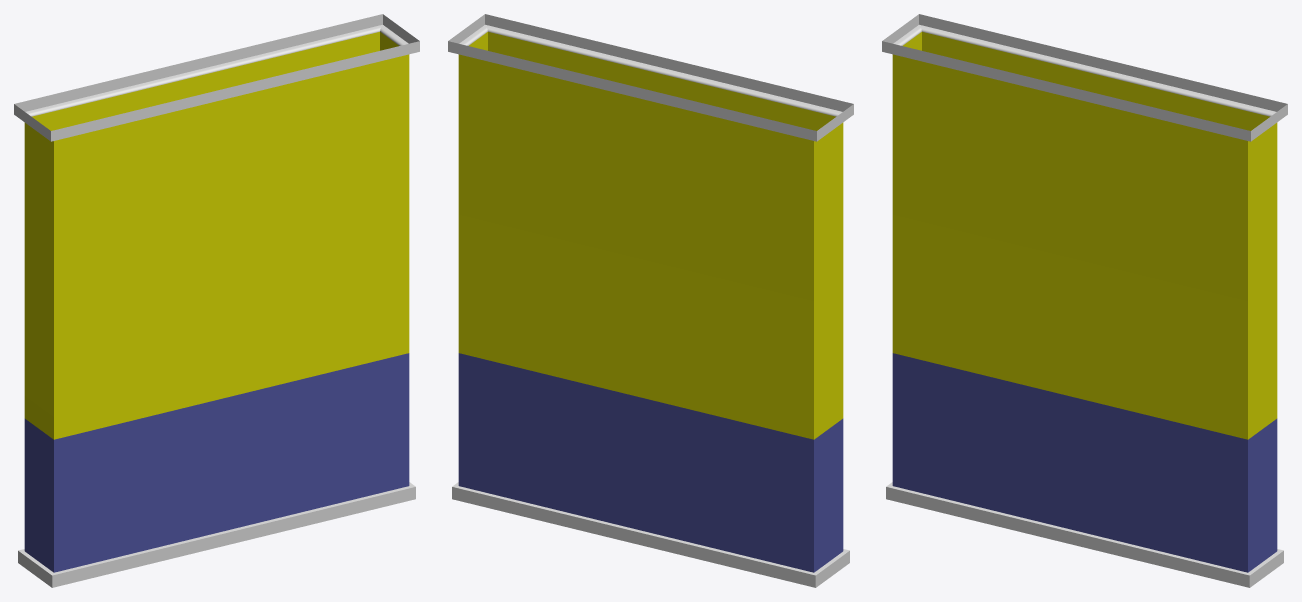
The model's file is HospWall.fbx.
The picture shows the model from 3 angles, left to right: view 1: azimuth 30°, elevation 25°; view 2: azimuth 150°, elevation 25°; view 3: azimuth 330°, elevation 25°; orthographic projection.
Parts seen in each view (by area): view 1: pCube1; view 2: pCube1; view 3: pCube1.
Part boxes in pixels (x1,y1,x2,y2): pCube1: [14, 14, 419, 587]; pCube1: [448, 14, 853, 587]; pCube1: [882, 14, 1287, 587].
Bounding box in the file's own units: 2.07 × 2.47 × 0.3608.
